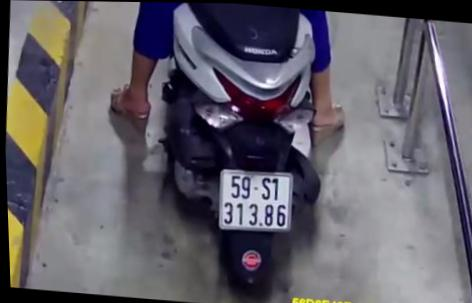LP: (215, 165, 294, 232)
